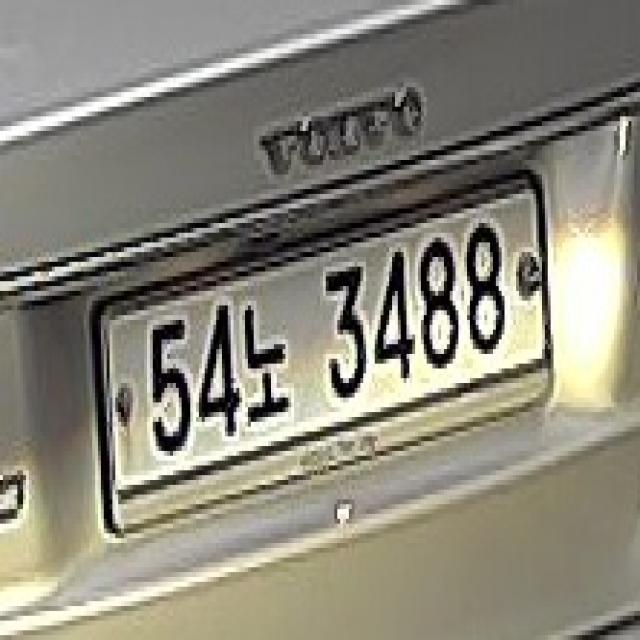3: (320, 243, 372, 412)
4: (369, 218, 424, 402), (196, 271, 242, 451)
5: (144, 296, 199, 470)
8: (462, 189, 511, 383), (418, 208, 458, 388)
license_plate: (81, 160, 559, 572)
no: (242, 281, 294, 427)
